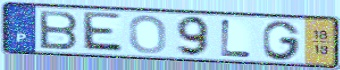9: (173, 15, 211, 58)
B: (37, 9, 80, 51)
E: (80, 10, 126, 55)
G: (261, 19, 303, 62)
L: (219, 18, 255, 59)
O: (128, 13, 169, 55)
